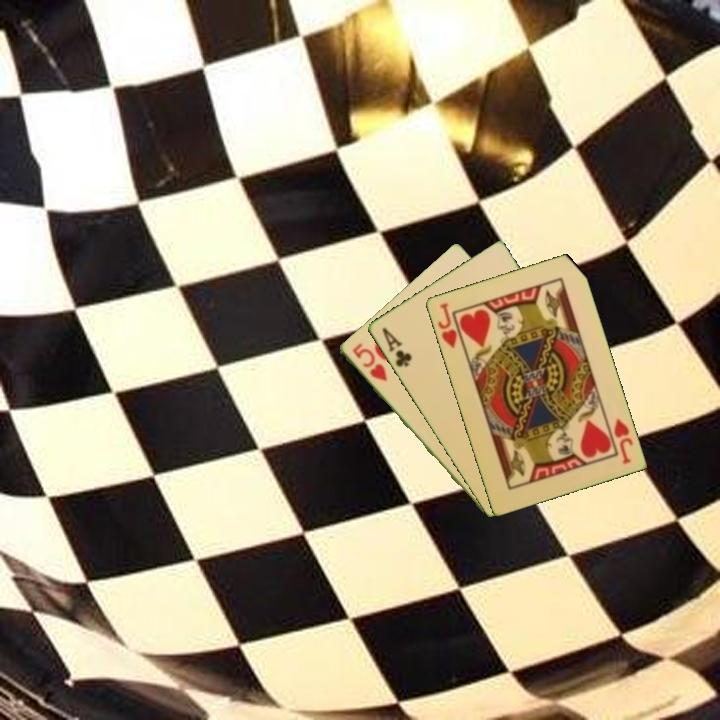5h: (348, 339, 390, 384)
Ac: (378, 323, 415, 370)
Jh: (434, 299, 459, 351), (610, 415, 635, 467)
